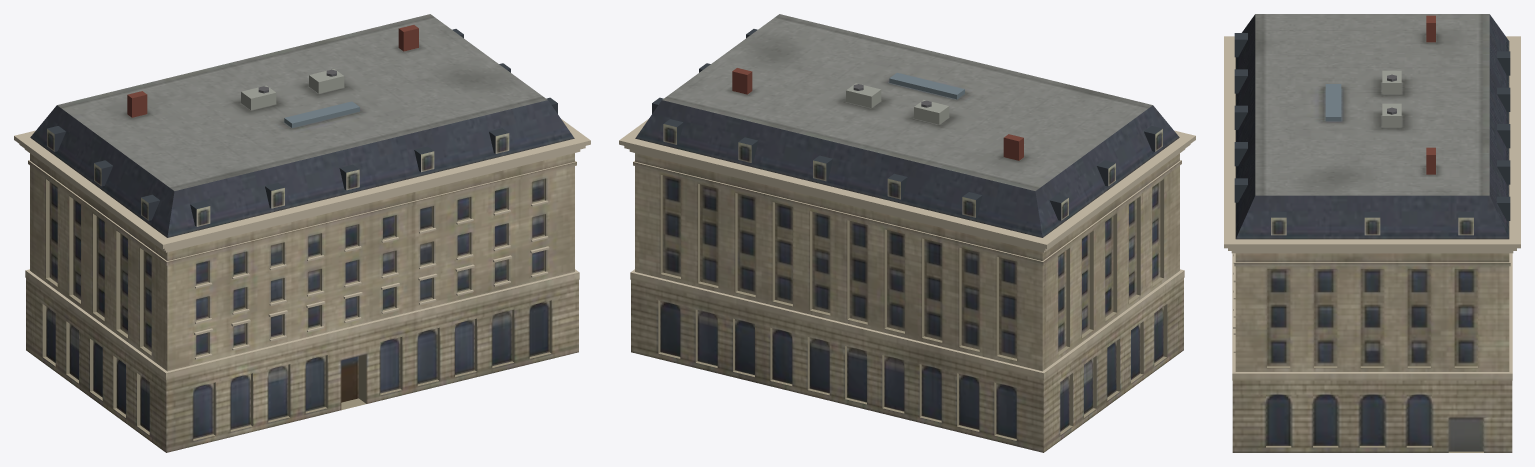
The model's file is dc_beaux_c.glb.
3 renders of one model, left to right at view 1: azimuth 30°, elevation 25°; view 2: azimuth 150°, elevation 25°; view 3: azimuth 270°, elevation 25°, orthographic.
Visible parts, largest first — view 1: dc_beaux_c; view 2: dc_beaux_c; view 3: dc_beaux_c.
Boxes of the visible parts, bbox=[...] form: dc_beaux_c: bbox=[14, 14, 590, 452]; dc_beaux_c: bbox=[619, 14, 1195, 452]; dc_beaux_c: bbox=[1224, 14, 1520, 452].
Size of the model in its own units: 50.4 by 30.2 by 30.4.
1 material, 1 textured.
